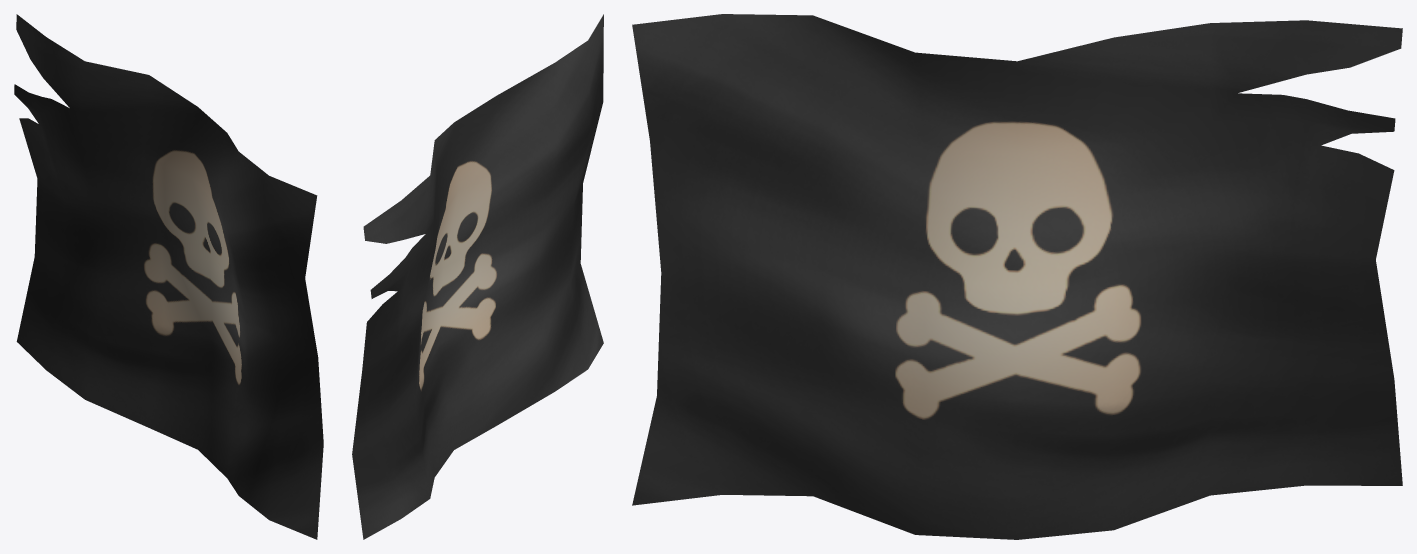
The model's file is pirate_flag.fbx.
3 renders of one model, left to right at view 1: azimuth 30°, elevation 25°; view 2: azimuth 150°, elevation 25°; view 3: azimuth 270°, elevation 25°, orthographic. The views are drawn at different scales.
Parts seen in each view (by area): view 1: pirate_flag; view 2: pirate_flag; view 3: pirate_flag.
Boxes of the visible parts, left/top/right/bottom form: pirate_flag: left=14, top=14, right=323, bottom=539; pirate_flag: left=352, top=14, right=603, bottom=539; pirate_flag: left=632, top=14, right=1402, bottom=539.
Bounding box in the file's own units: 1.36 × 6.74 × 9.38.
